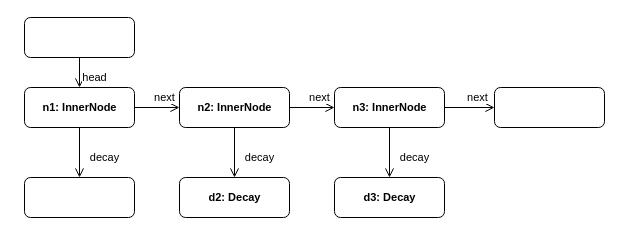
This 622x235 diagram has some shape labels left out. The shapes that lost their labels are listed below. From the top down, each one's centre as x and y in pixels, then its label:
the point at 79,37: m1: MeasurementSeries
the point at 549,107: n4: LeafNode
the point at 79,197: d1: Decay
